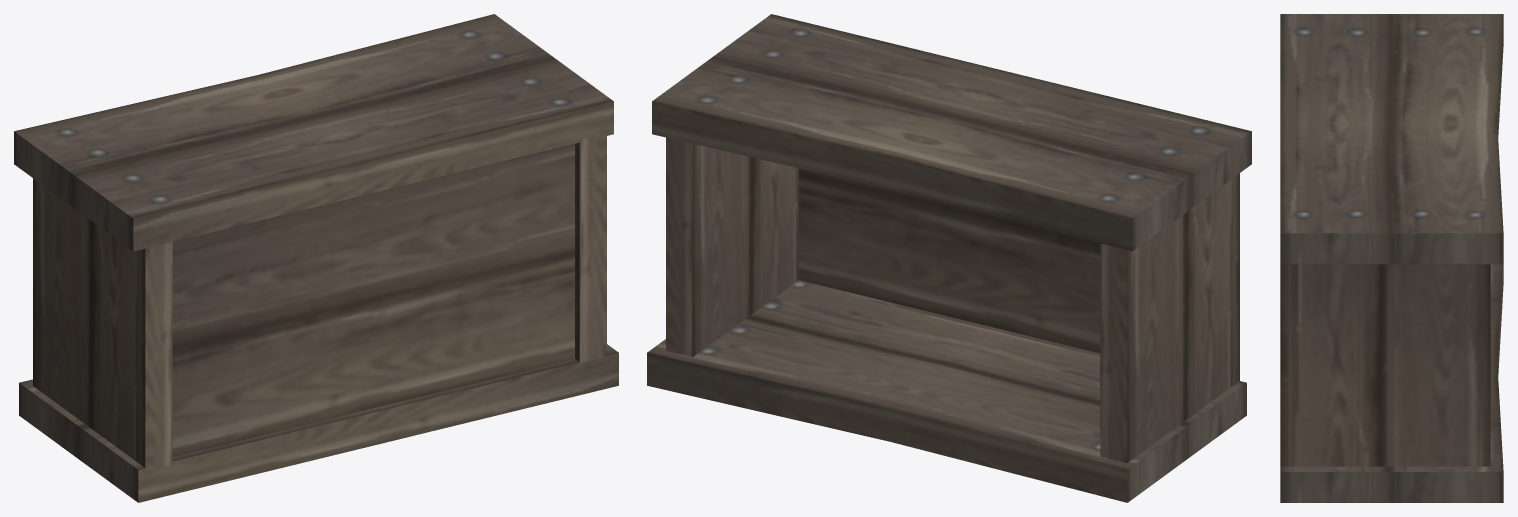
3 views of the same model, side by side, from view 1: azimuth 30°, elevation 25°; view 2: azimuth 150°, elevation 25°; view 3: azimuth 270°, elevation 25° (orthographic). The views are drawn at different scales.
Parts seen in each view (by area): view 1: Box_A; view 2: Box_A; view 3: Box_A.
Part boxes in pixels (<box>): Box_A: <box>14,14,618,502</box>; Box_A: <box>647,14,1251,502</box>; Box_A: <box>1280,14,1503,502</box>.
Size of the model in its own units: 1.35 by 0.7593 by 0.5749.
